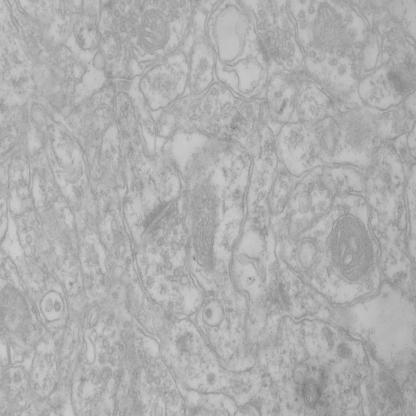mitochondria: (326, 212, 376, 286), (186, 181, 220, 272), (136, 7, 171, 54), (300, 376, 321, 409)
